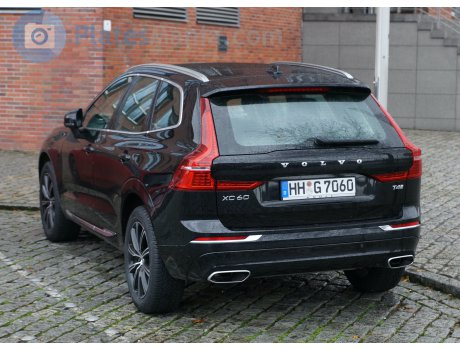License Plates: (290, 178, 354, 190)
